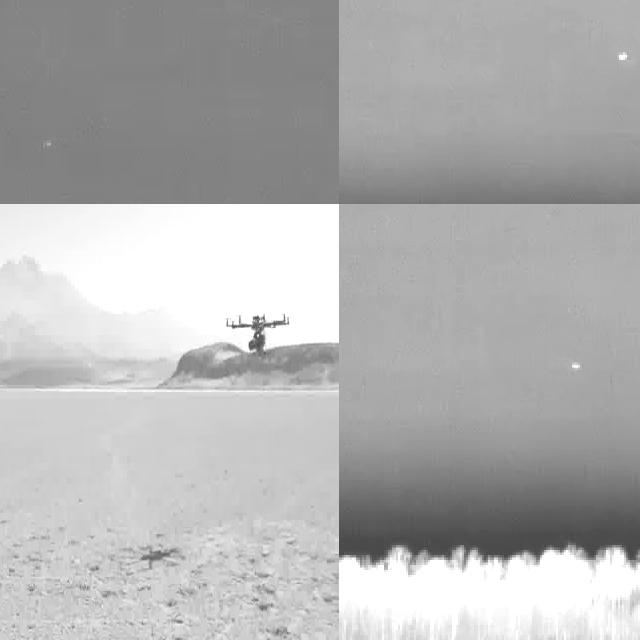0: (43, 134, 61, 160)
1: (563, 351, 597, 389), (614, 48, 638, 72)
drone: (225, 311, 293, 352)
